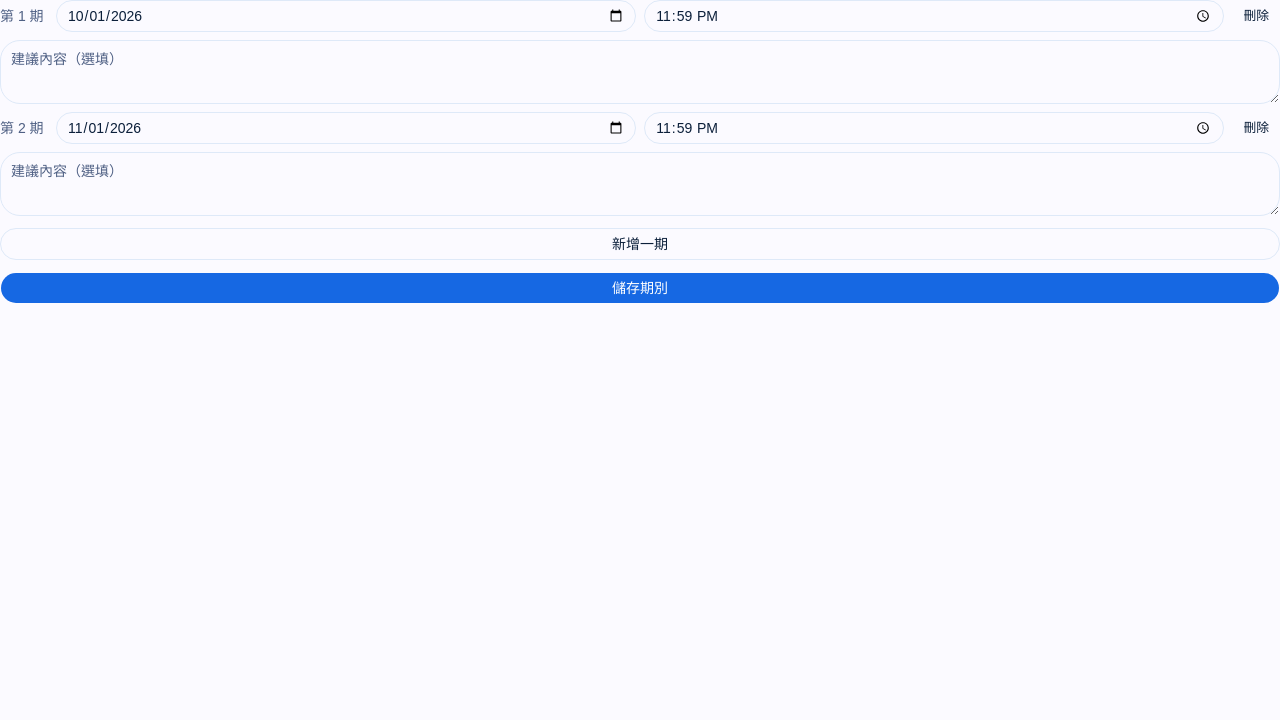
Test case: PeriodsForm › 確認後回「交件狀況已變動，請重新確認」→ 重新預覽，視窗顯示新的交件數，要重新打字確認
Click the button with aria-label "刪除第 1 期": (1256, 16) [1232,2,1279,30]
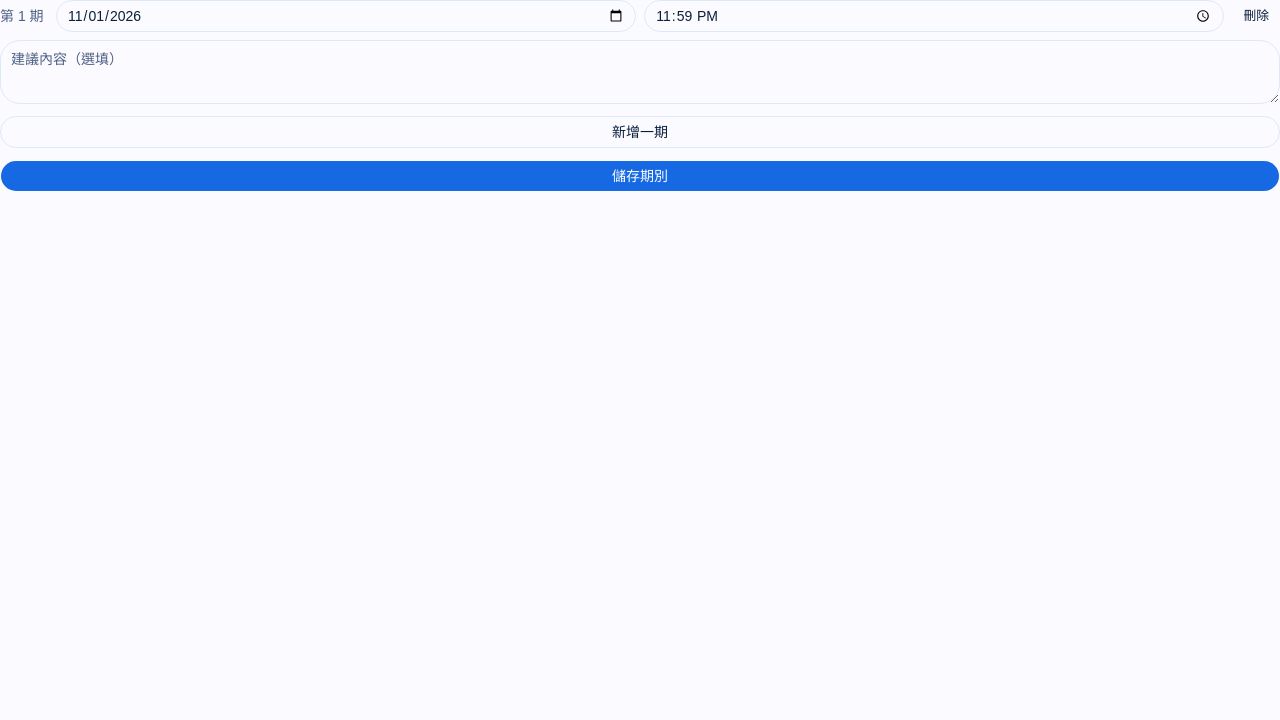
Click the button "儲存期別": (640, 176) [0,160,1279,192]
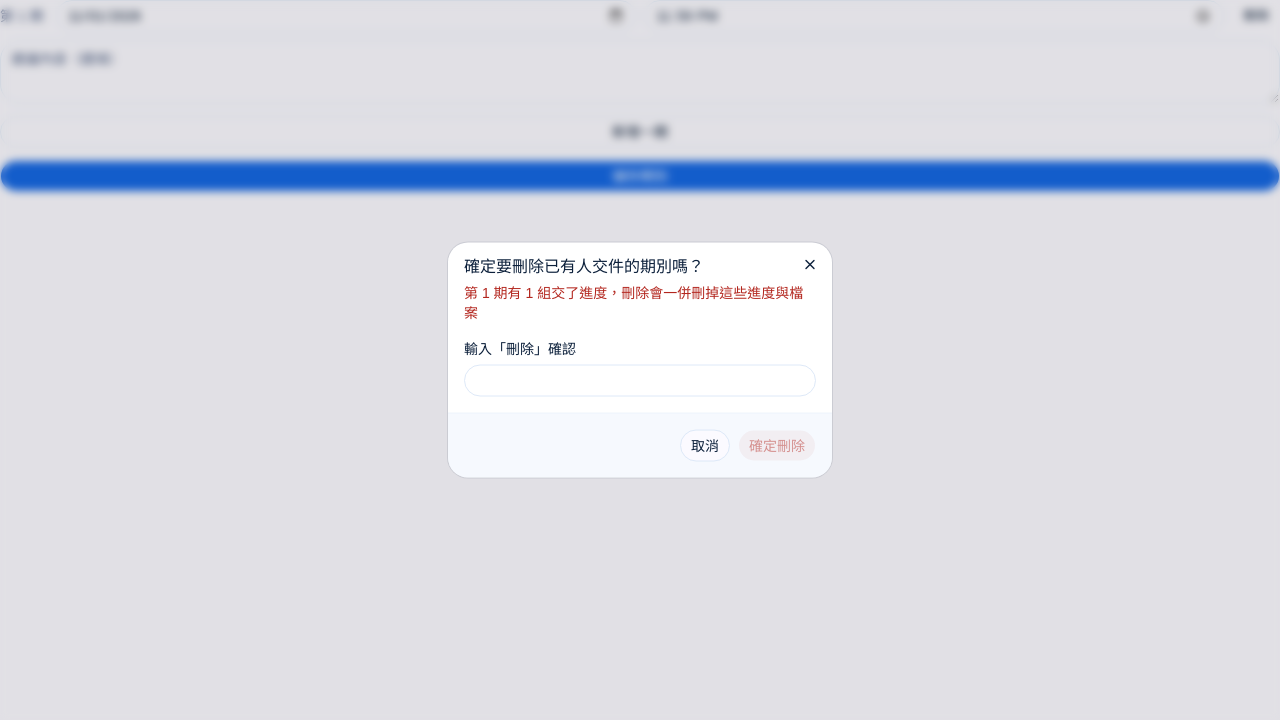
Result: the dialog is shown at [448,242,832,478]
In the field labelled "輸入「刪除」確認": (640, 380) [464,364,816,396], type "刪除"
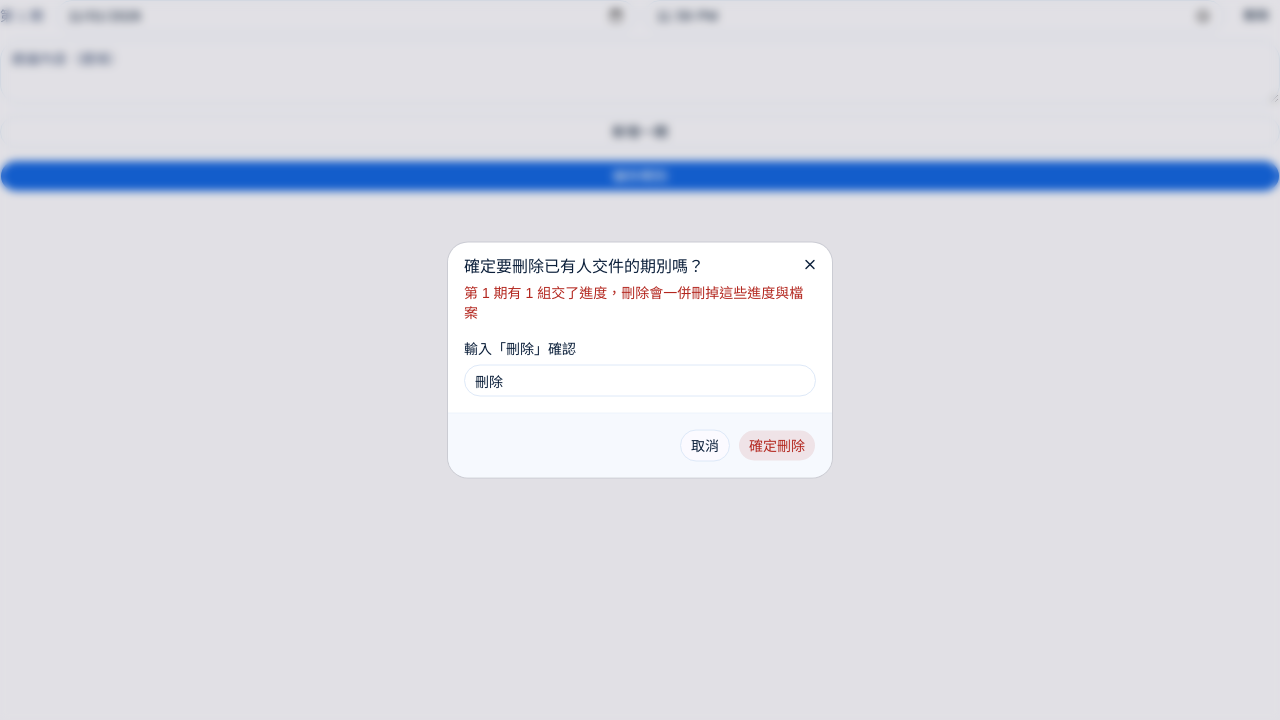
Click the button "確定刪除": (777, 446) [738,430,816,462]
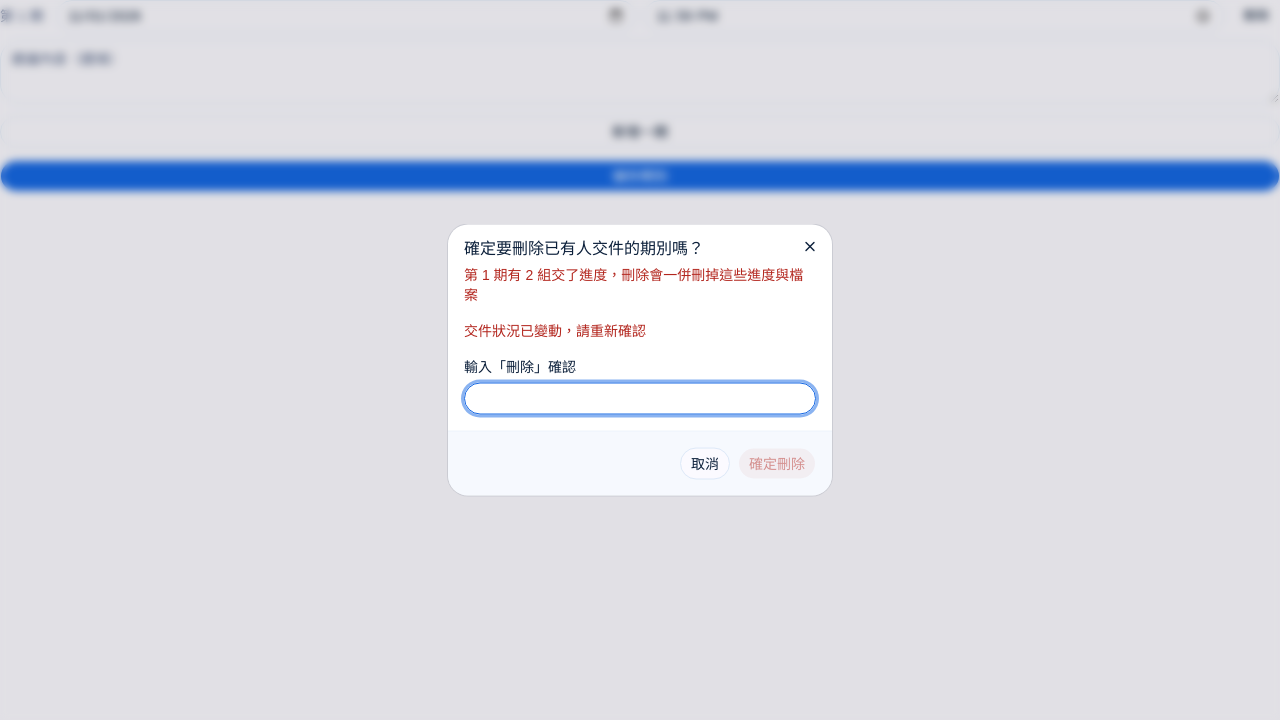
Result: the dialog shows "第 1 期有 2 組交了進度，刪除會一併刪掉這些進度與檔案" at [448,224,832,496]
Result: the text "交件狀況已變動，請重新確認" is shown at [464,322,646,338]
Result: the field labelled "輸入「刪除」確認" is empty at [464,382,816,414]
